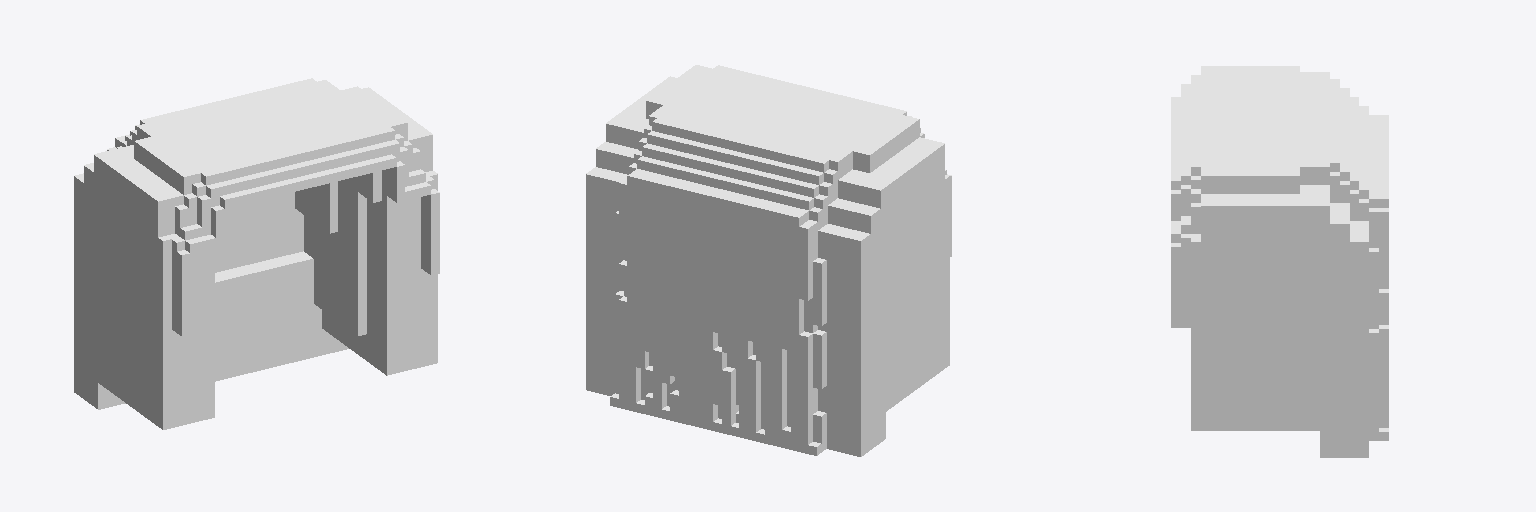
File: humanoid-49.obj
3 views of the same model, side by side, from view 1: azimuth 30°, elevation 25°; view 2: azimuth 150°, elevation 25°; view 3: azimuth 270°, elevation 25° (orthographic).
Parts seen in each view (by area): view 1: humanoid-49; view 2: humanoid-49; view 3: humanoid-49.
Part boxes in pixels (left/top/right/bottom): humanoid-49: left=74, top=78, right=439, bottom=429; humanoid-49: left=586, top=65, right=951, bottom=456; humanoid-49: left=1171, top=66, right=1388, bottom=457.
Bounding box in the file's own units: 32 × 30 × 22.